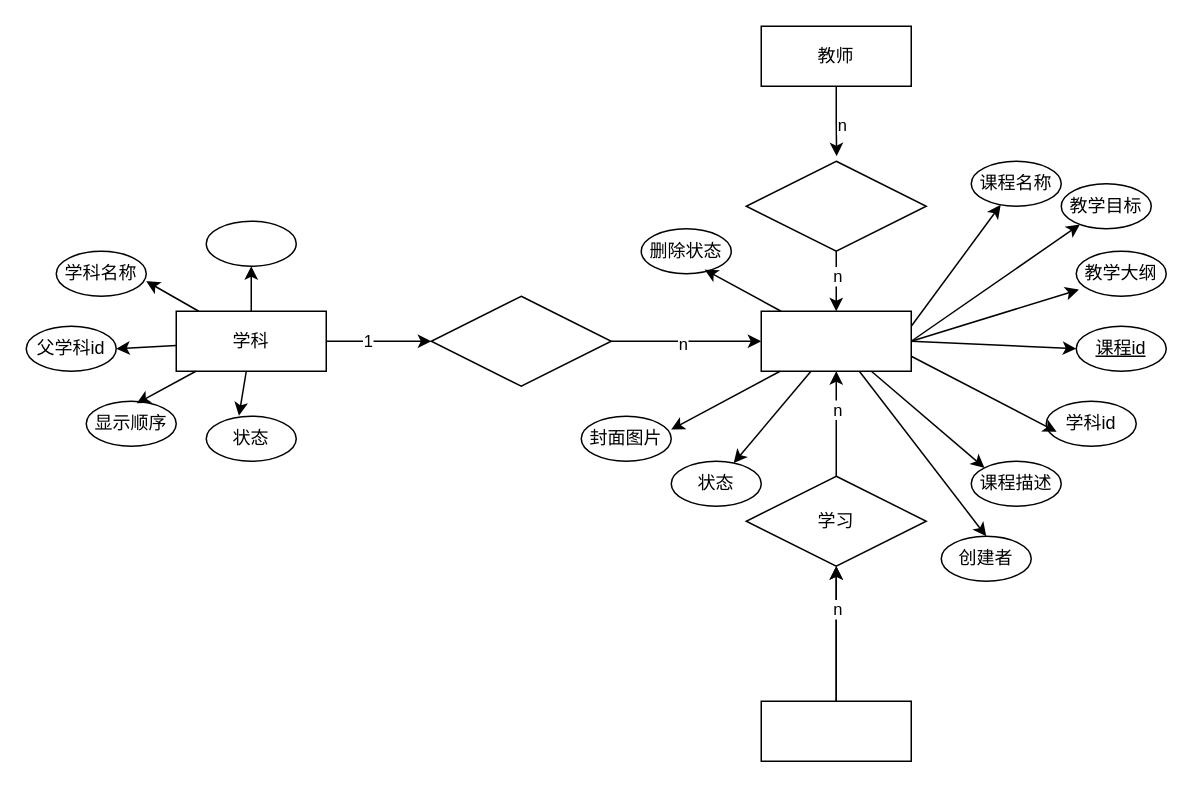
Image size: 1193x788. Some labels were removed from this diagram. Each missing label, with the centre of its shape:
"删除标志" goes at point 250,243.
"包含" goes at point 520,340.
"学生" goes at point 835,730.
"授课" goes at point 835,205.
"课程" goes at point 835,340.
